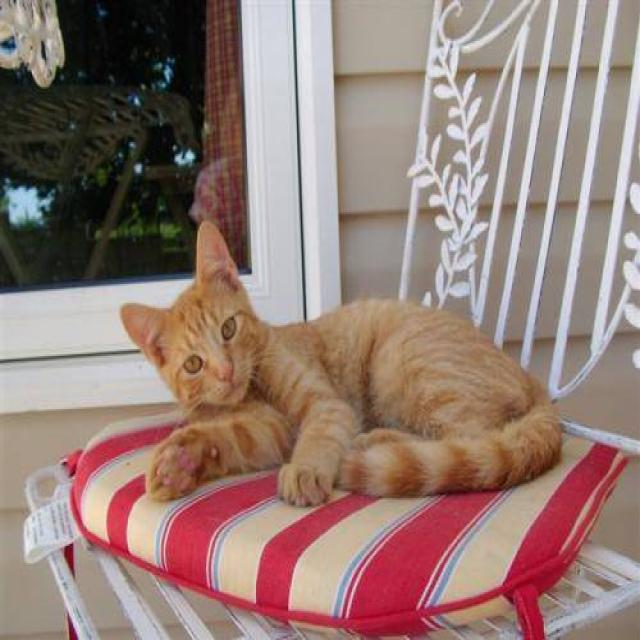cat: (119, 218, 563, 507)
